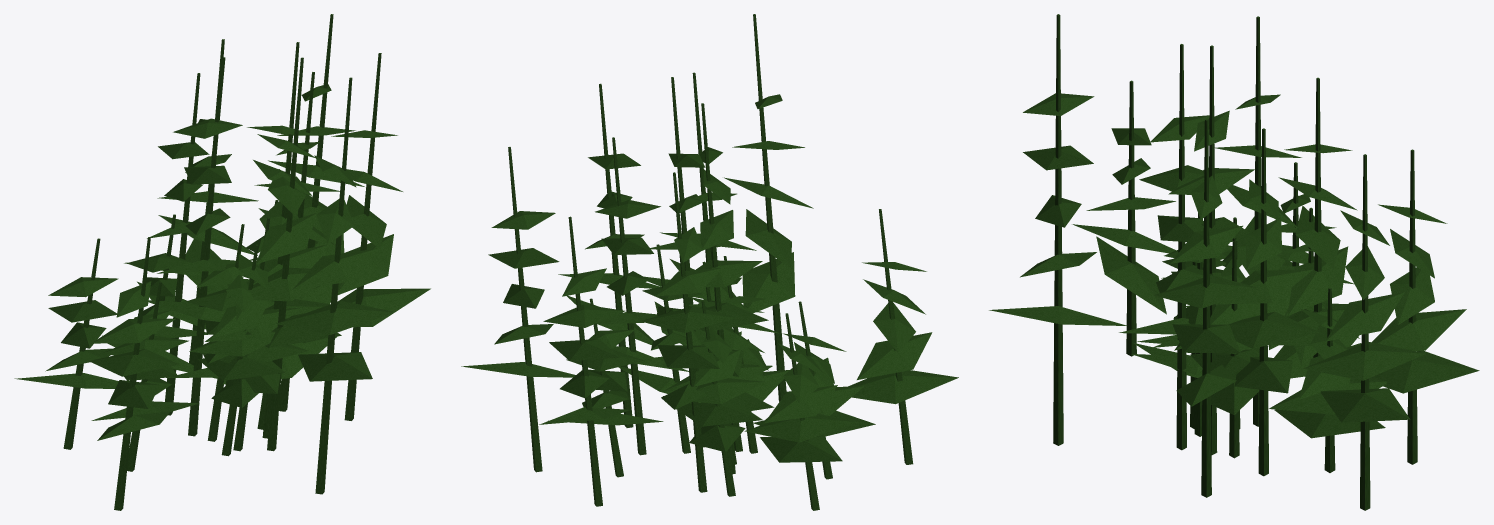
Rendered from fern_patch_01.fbx.
3 renders of one model, left to right at view 1: azimuth 30°, elevation 25°; view 2: azimuth 150°, elevation 25°; view 3: azimuth 270°, elevation 25°, orthographic. The views are drawn at different scales.
Parts seen in each view (by area): view 1: fern_patch_01_LOD0; view 2: fern_patch_01_LOD0; view 3: fern_patch_01_LOD0.
Boxes of the visible parts, box(x1,y1,x2,y2) form: fern_patch_01_LOD0: box(14, 14, 430, 510); fern_patch_01_LOD0: box(461, 14, 958, 510); fern_patch_01_LOD0: box(989, 14, 1479, 510).
Size of what is drawn, in the model's own units: 1 by 1 by 1.
